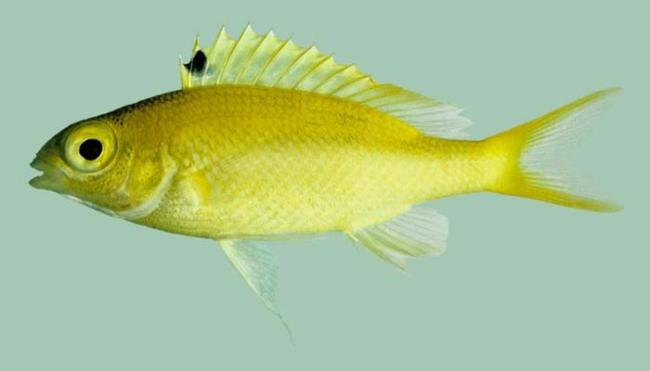fish: (27, 21, 626, 346)
